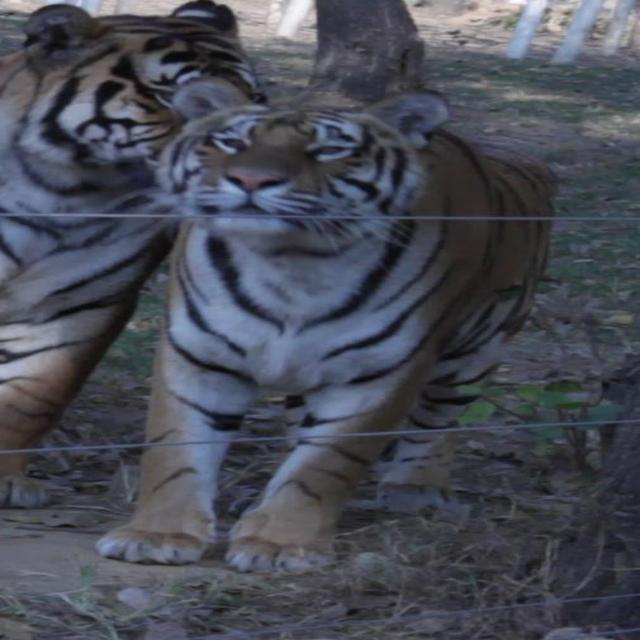tiger: (100, 76, 576, 577), (0, 1, 272, 548)
